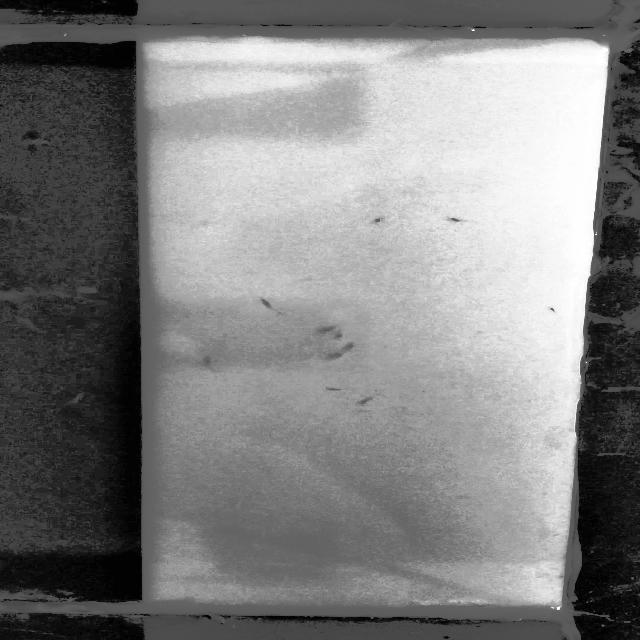shrimp: (351, 393, 382, 411), (190, 354, 226, 369), (244, 296, 280, 311), (438, 214, 474, 228), (360, 213, 392, 227), (318, 382, 346, 396), (540, 302, 562, 317), (328, 348, 351, 362), (318, 322, 334, 338), (340, 343, 361, 352), (332, 331, 346, 341)
